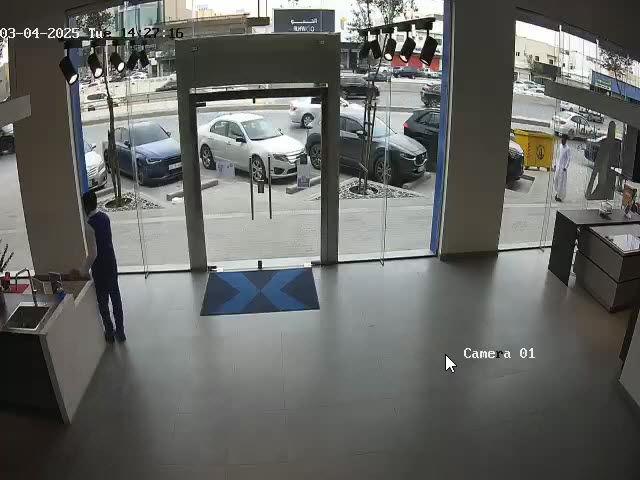employee: (81, 190, 126, 344)
male: (553, 135, 571, 202)
